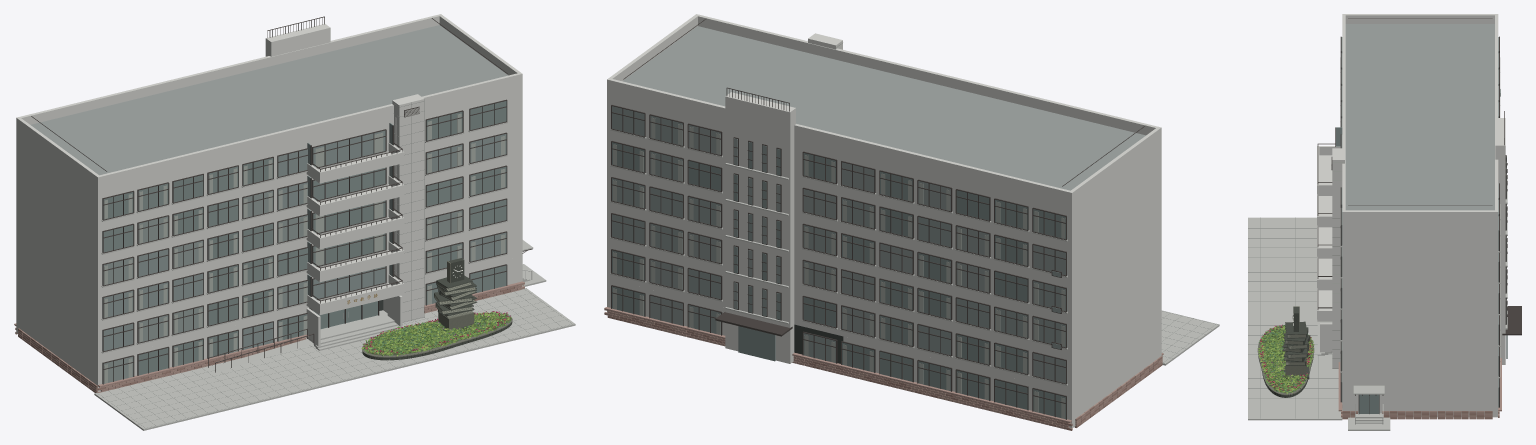
File: buildings-17-medium.glb
3 views of the same model, side by side, from view 1: azimuth 30°, elevation 25°; view 2: azimuth 150°, elevation 25°; view 3: azimuth 270°, elevation 25° (orthographic). The views are drawn at different scales.
Visible parts, largest first — view 1: T4 six storey structure, T4 flat roof, T4 forecourt paving, T4 window glass.001, T4 roof parapet, T4 window glass.002, T4 window transoms, T4 window glass.003, T4 window mullions, T4 curtain panels, T4 front shaft, T4 window glass (+26 smaller); view 2: T4 six storey structure, T4 flat roof, T4 rear stair tower, T4 window glass.002, T4 roof parapet, T4 window glass.001, T4 window transoms, T4 window glass, T4 window mullions, T4 curtain panels, T4 window glass.003, T4 ground left structure (+17 smaller); view 3: T4 flat roof, T4 six storey structure, T4 forecourt paving, T4 ground right structure, T4 end parapet, T4 front shaft, T4 rear stair tower, T4 balcony slab, T4 roof parapet, T4 paving joints, T4 flowerbed foliage.003, T4 balcony returns (+24 smaller).
Boxes of the visible parts, x1,y1,x2,y2 form: T4 six storey structure: (16,84,522,359); T4 flat roof: (31,25,508,175); T4 forecourt paving: (94,288,575,430); T4 window glass.001: (102,101,506,375); T4 roof parapet: (20,15,519,186); T4 window glass.002: (102,130,506,350); T4 window transoms: (102,99,507,369); T4 window glass.003: (102,166,506,304); T4 window mullions: (102,101,507,384); T4 curtain panels: (104,113,505,383); T4 front shaft: (392,94,423,322); T4 window glass: (102,191,462,383); T4 six storey structure: (607,91,1161,391); T4 flat roof: (623,26,1145,190); T4 rear stair tower: (725,92,795,363); T4 window glass.002: (612,106,1067,362); T4 roof parapet: (610,15,1157,203); T4 window glass.001: (612,142,1028,409); T4 window transoms: (611,105,1066,403); T4 window glass: (650,125,1067,383); T4 window mullions: (611,105,1066,419); T4 curtain panels: (613,117,1065,418); T4 window glass.003: (803,153,1067,419); T4 ground left structure: (843,327,1161,427); T4 flat roof: (1345,24,1494,210); T4 six storey structure: (1342,221,1498,385); T4 forecourt paving: (1248,217,1342,420); T4 ground right structure: (1342,385,1498,417); T4 end parapet: (1342,14,1498,222); T4 front shaft: (1332,148,1344,368); T4 rear stair tower: (1495,118,1505,364); T4 balcony slab: (1317,155,1332,321); T4 roof parapet: (1342,15,1498,210); T4 paving joints: (1248,217,1341,418); T4 flowerbed foliage.003: (1258,326,1313,392); T4 balcony returns: (1318,146,1340,319).
Size of the model in its own units: 43.7 by 22.01 by 23.85.
27 materials, 3 textured.
